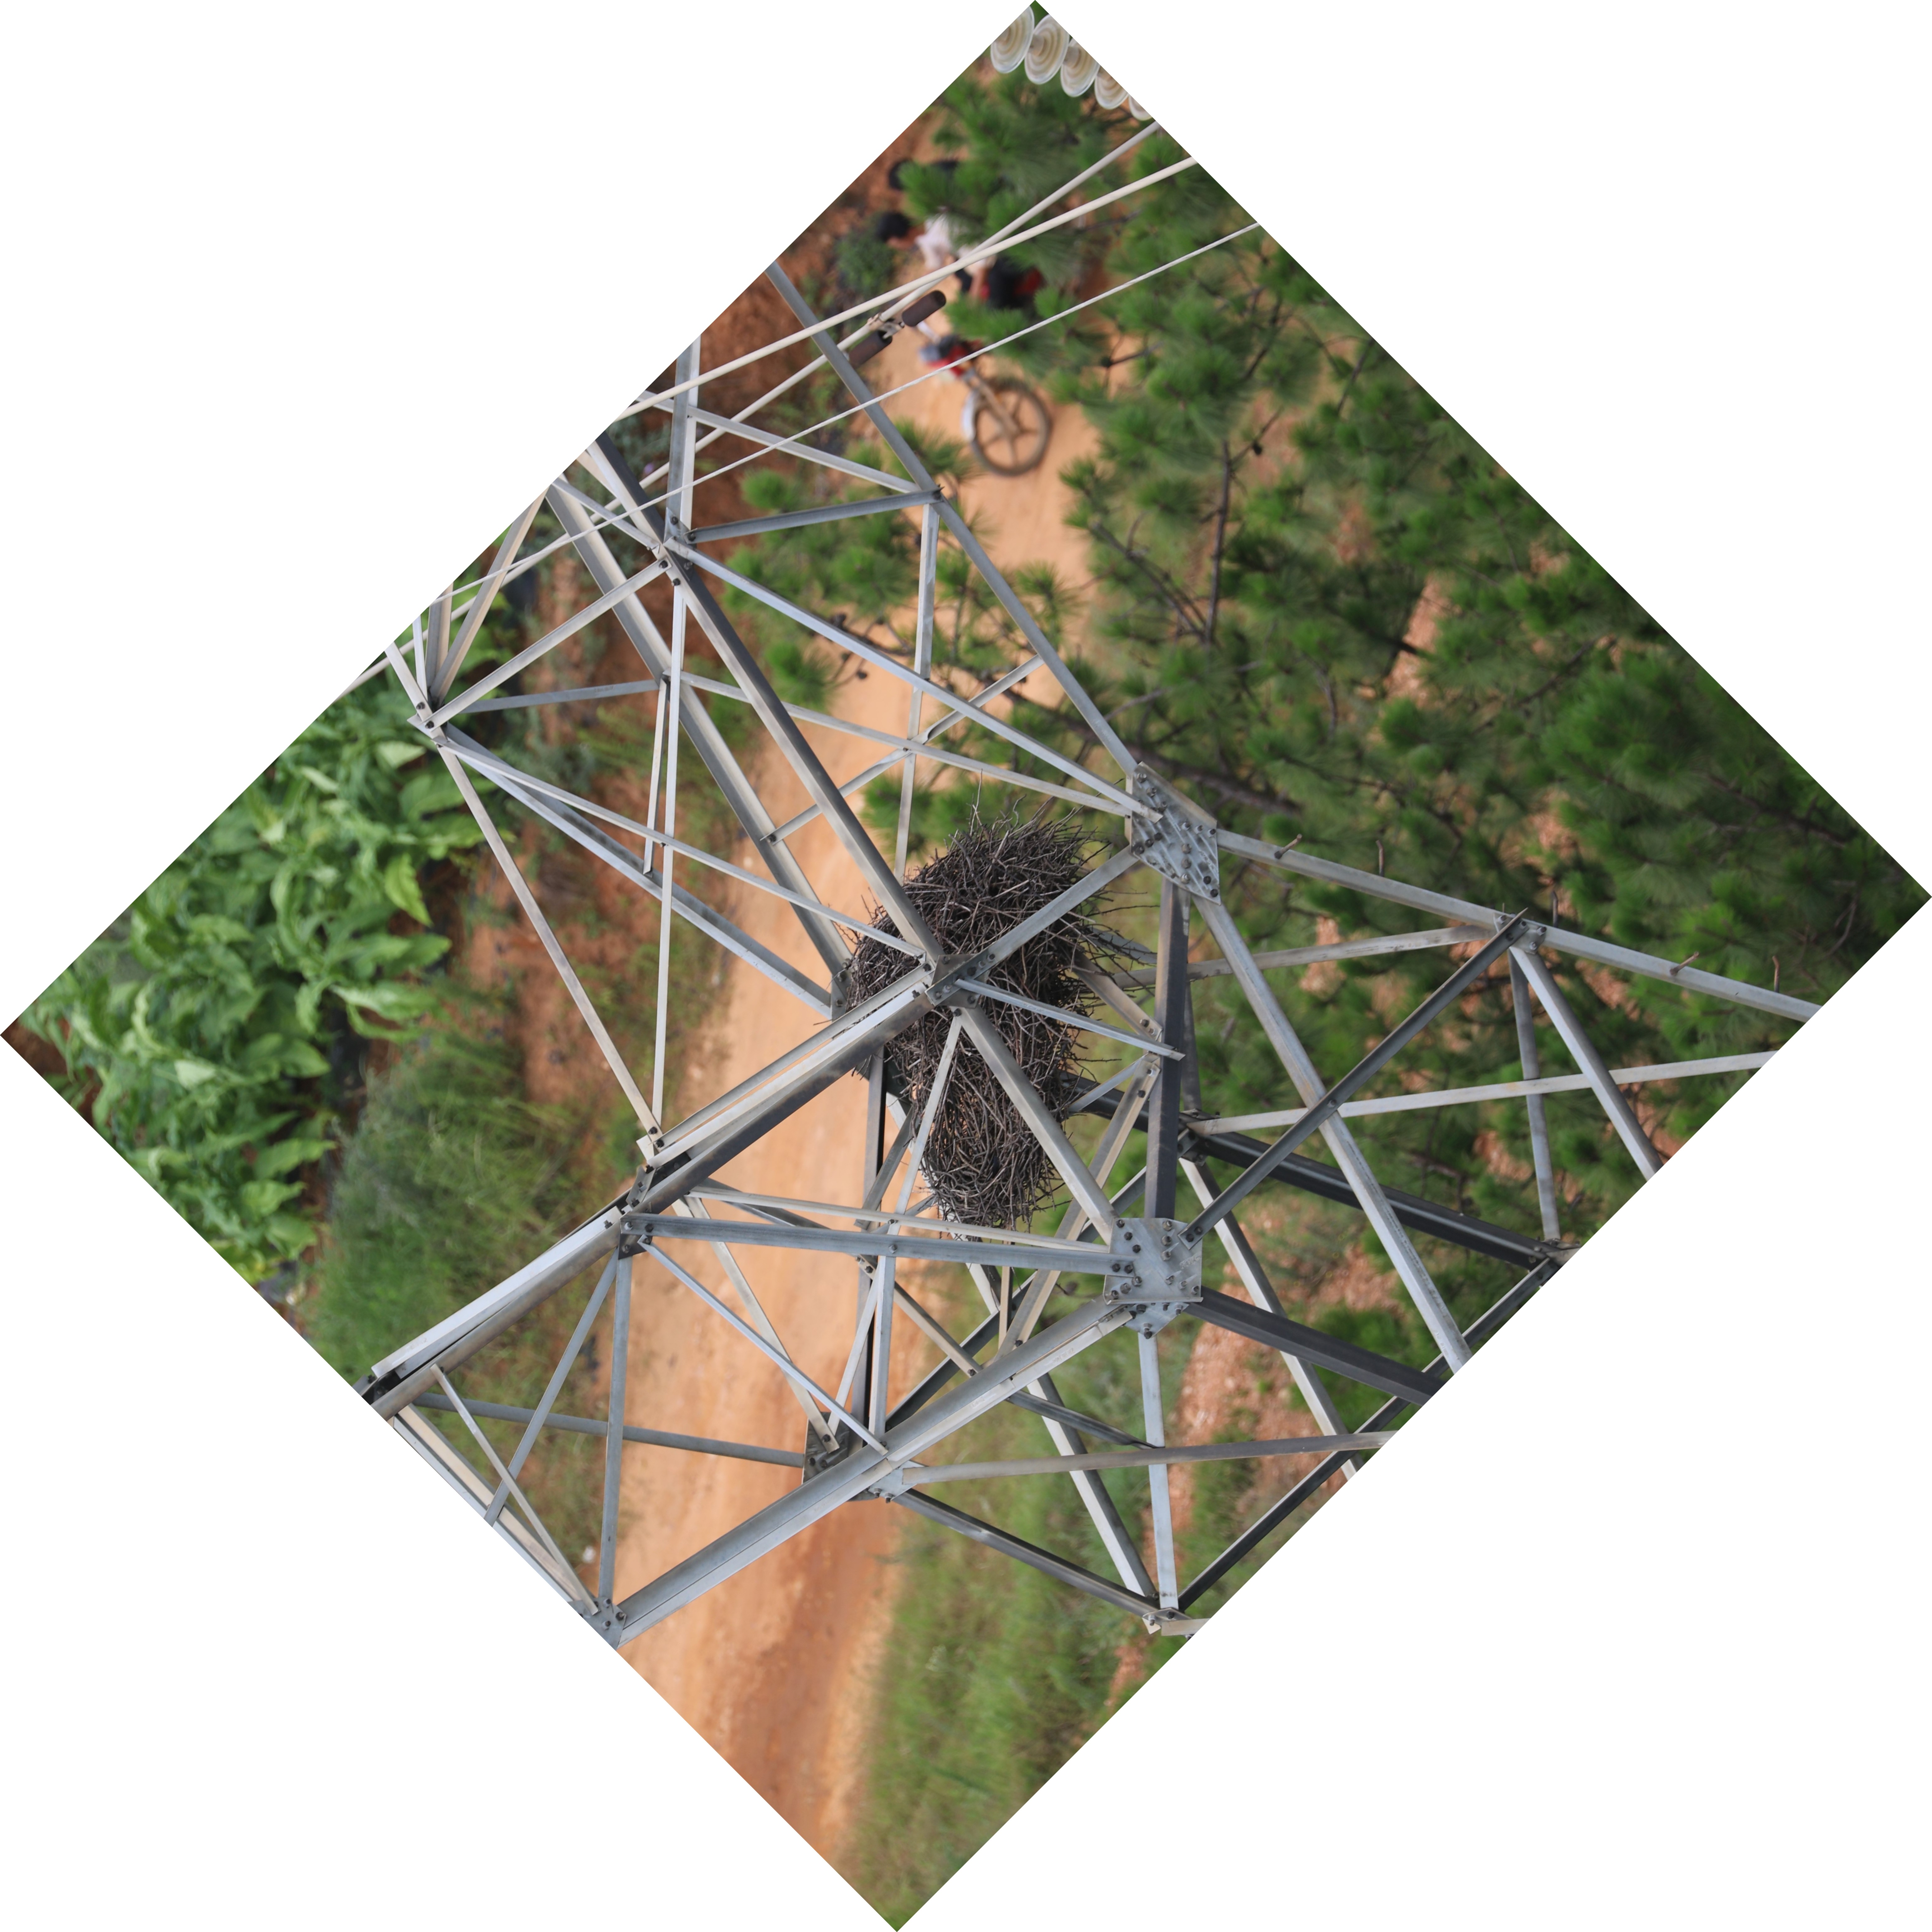niaowo: (784, 793, 1146, 1238)
